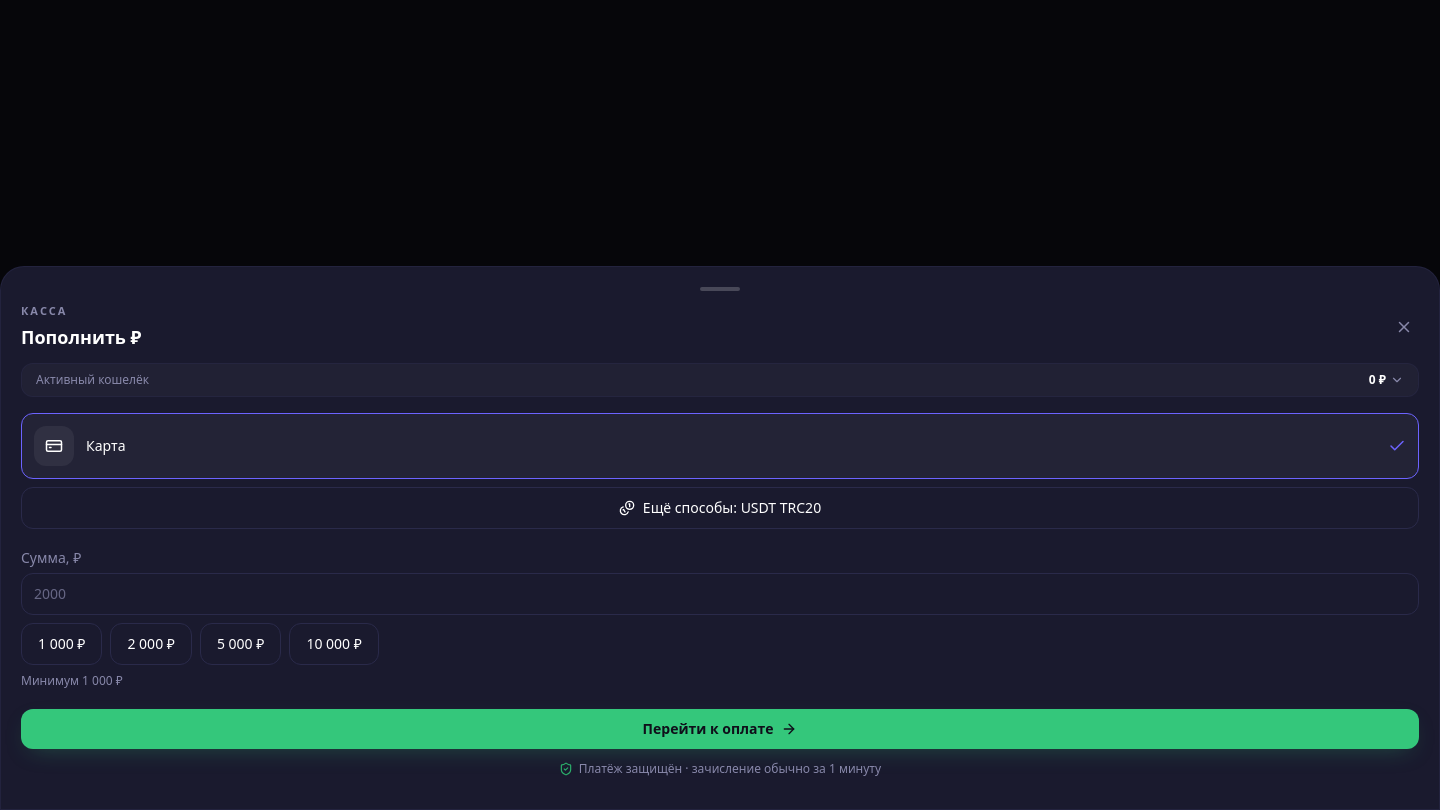
Scenario: Валидация суммы кассы (фидбек вместо молчаливого return) › сумма ниже минимума: подсказка с минимумом из гео-конфига
Step 1. Type "100" into the field with placeholder "2000" → (720, 594), box top-left (21, 573), bottom-right (1419, 615)
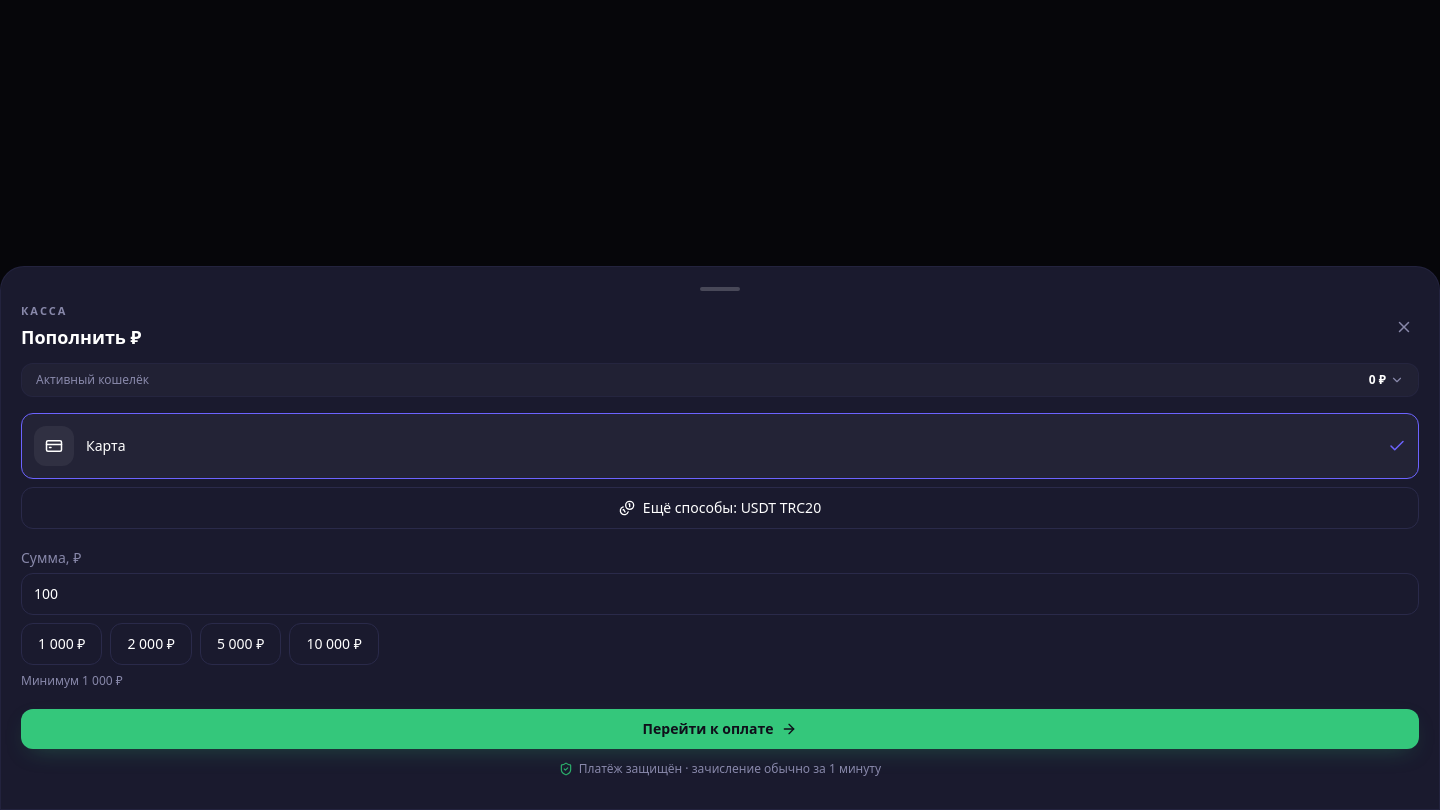
Step 2. Click the button "Перейти к оплате" → (720, 729), box top-left (21, 709), bottom-right (1419, 749)
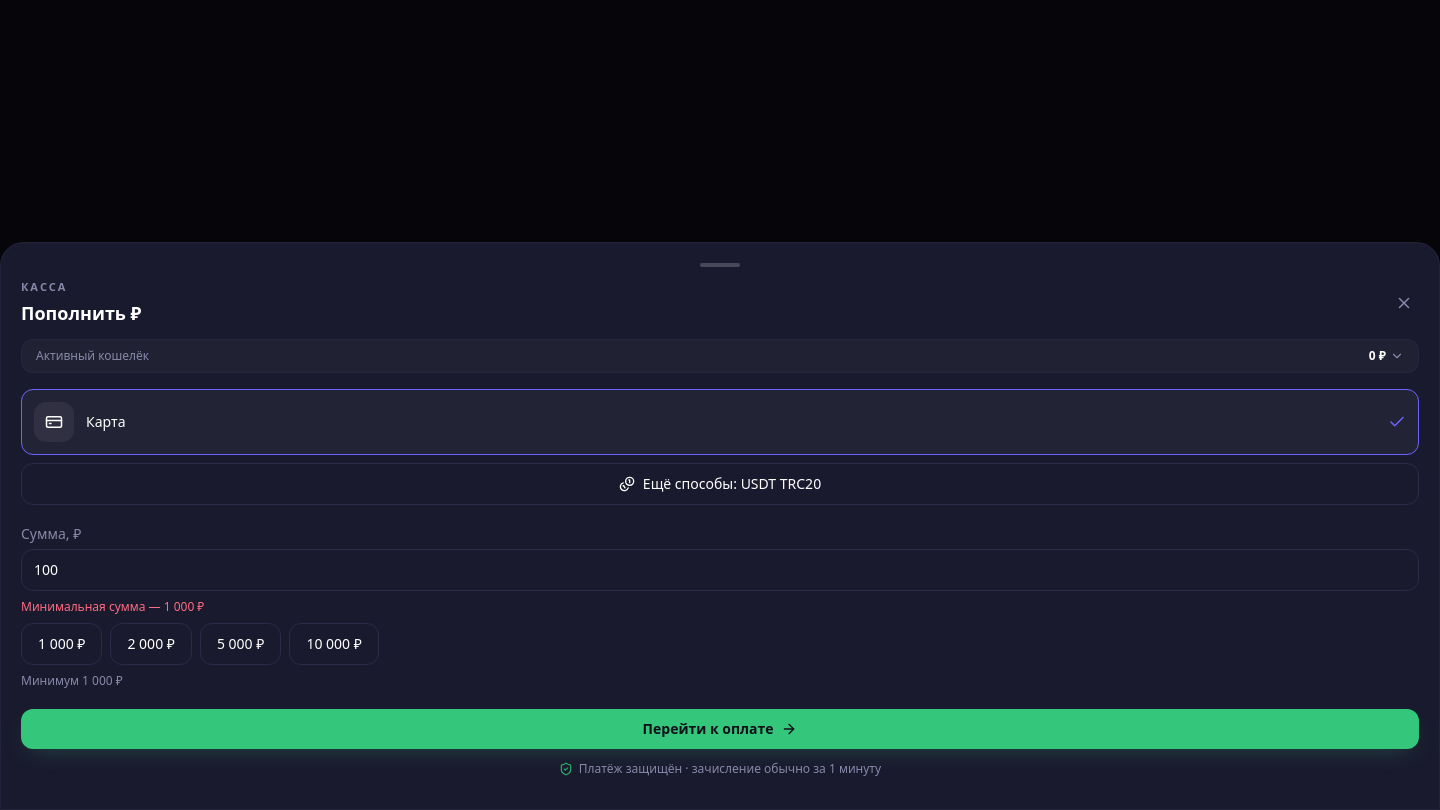
Expected: the text "Минимальная сумма — 1 000 ₽" is shown, top-left (21, 598), bottom-right (204, 615)
